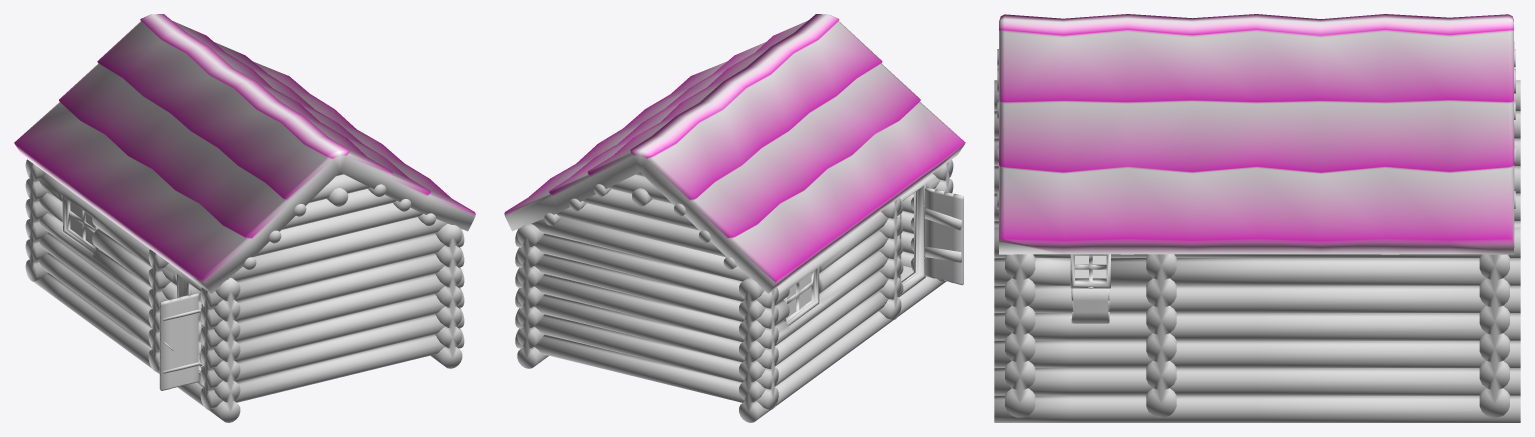
Rendered from House_low.fbx.
3 views of the same model, side by side, from view 1: azimuth 30°, elevation 25°; view 2: azimuth 150°, elevation 25°; view 3: azimuth 270°, elevation 25° (orthographic). The views are drawn at different scales.
Visible parts, largest first — view 1: Logs_low, Roof_low, Door_low, Window_low; view 2: Logs_low, Roof_low, Door_low, Door_frame_low, Window_low; view 3: Roof_low, Logs_low, Lid_low, Window(no_glass)_low, Floor_low.
Boxes of the visible parts, x1=… form: Logs_low: x1=25, y1=159, x2=464, y2=422; Roof_low: x1=14, y1=14, x2=475, y2=293; Door_low: x1=159, y1=293, x2=202, y2=390; Window_low: x1=62, y1=196, x2=98, y2=254; Logs_low: x1=515, y1=160, x2=953, y2=422; Roof_low: x1=504, y1=14, x2=965, y2=293; Door_low: x1=924, y1=187, x2=963, y2=285; Door_frame_low: x1=897, y1=184, x2=925, y2=297; Window_low: x1=783, y1=267, x2=819, y2=325; Roof_low: x1=999, y1=14, x2=1514, y2=254; Logs_low: x1=994, y1=49, x2=1520, y2=422; Lid_low: x1=1071, y1=287, x2=1109, y2=323; Window(no_glass)_low: x1=1070, y1=254, x2=1110, y2=288; Floor_low: x1=1075, y1=255, x2=1106, y2=278.
Size of the model in its own units: 1259 by 993 by 1439.
